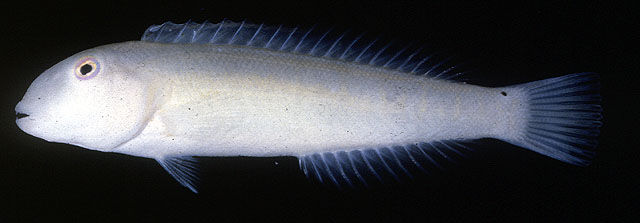fish: (15, 21, 601, 194)
